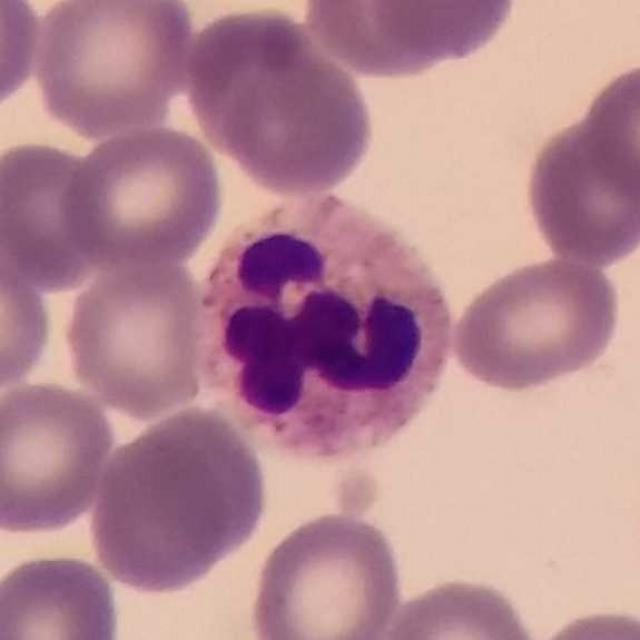Neutrophil: (193, 186, 463, 477)
RBC: (182, 2, 378, 198), (85, 403, 272, 597), (58, 121, 226, 272), (59, 254, 213, 418), (447, 253, 626, 394), (28, 0, 197, 137), (244, 507, 406, 640), (0, 376, 119, 541), (521, 114, 640, 268), (0, 134, 107, 292), (298, 0, 477, 81), (0, 548, 124, 640), (376, 572, 542, 640), (364, 0, 521, 69), (0, 226, 57, 400), (579, 56, 640, 204), (0, 1, 46, 118), (525, 603, 640, 640)
